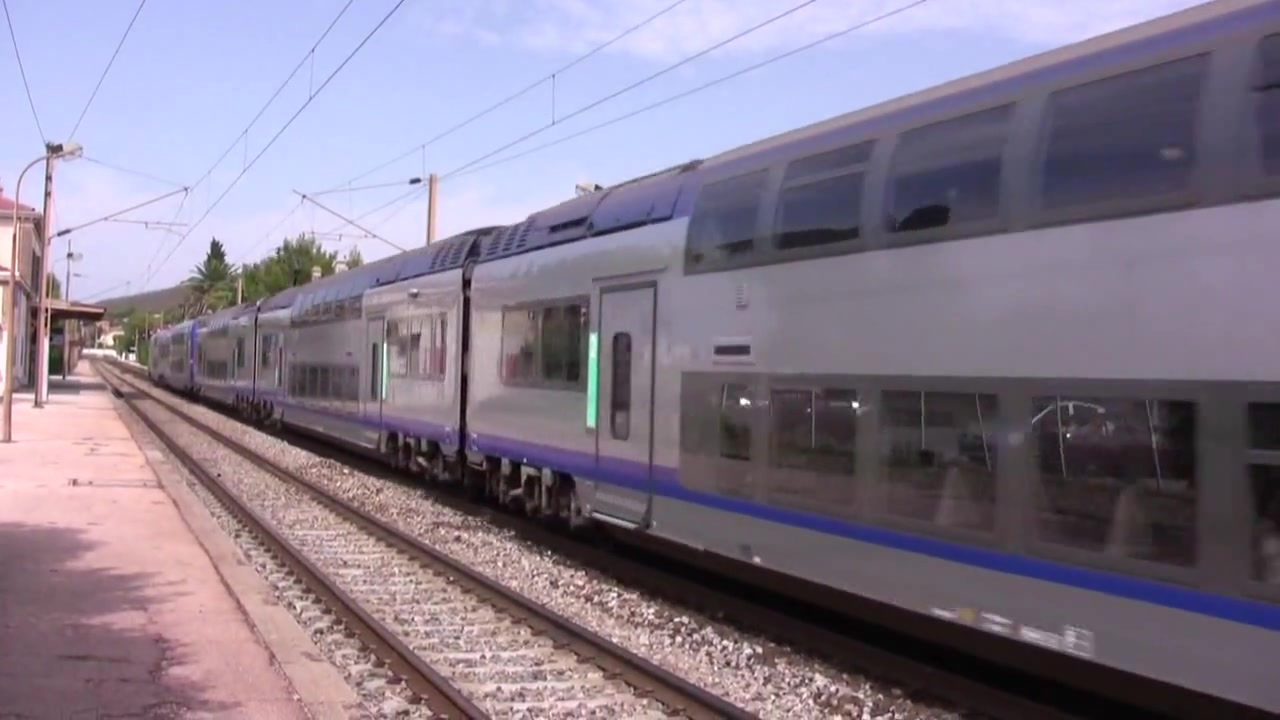train: (137, 1, 1280, 719)
